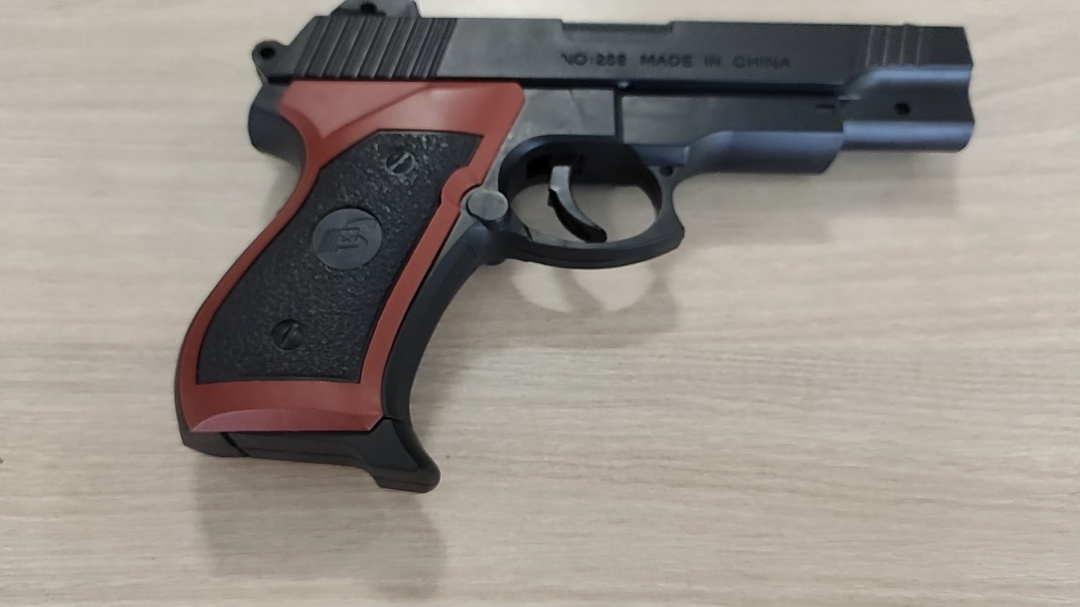gun: (172, 2, 985, 508)
